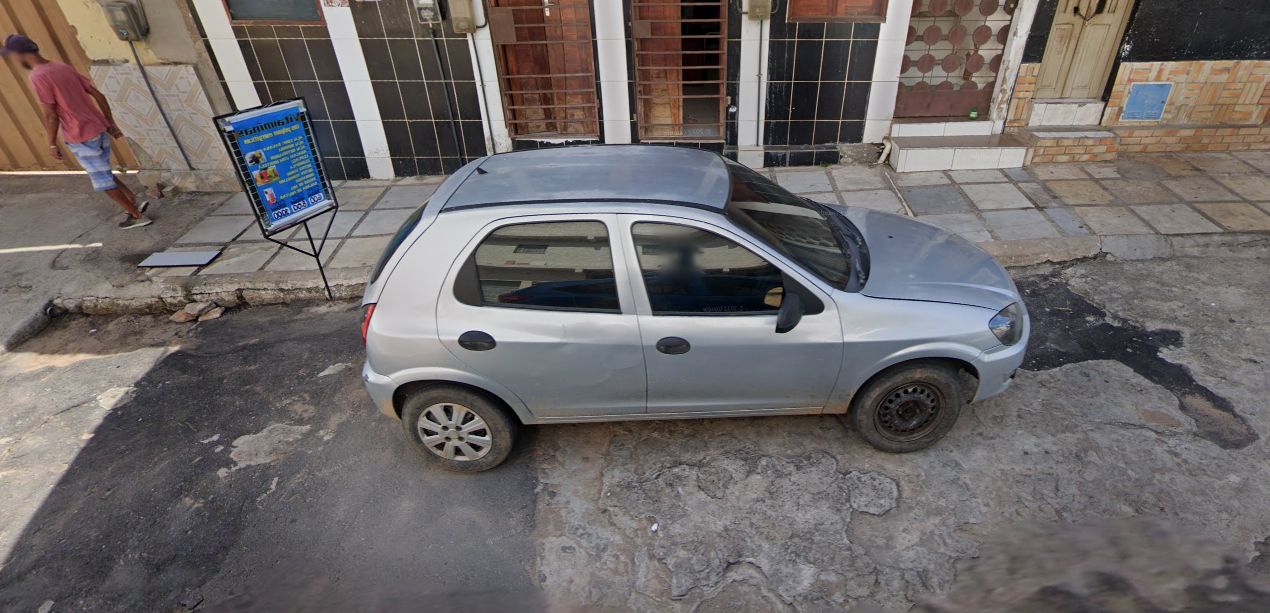car: (354, 130, 1038, 478)
